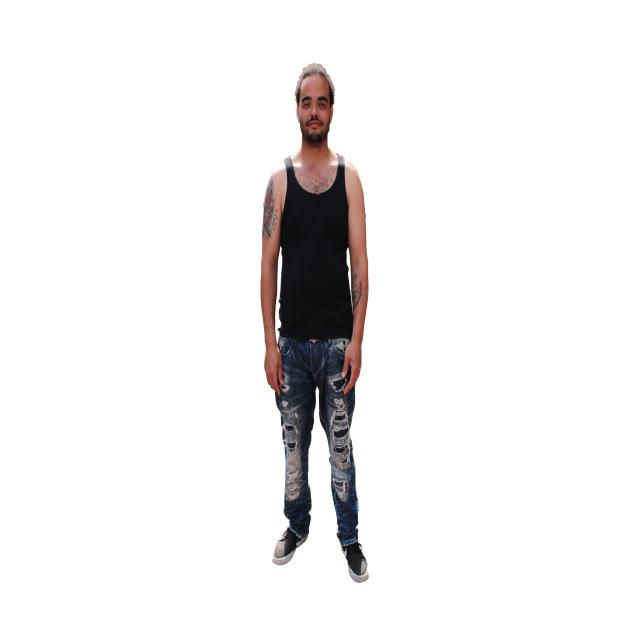jovem: (259, 52, 385, 581)
